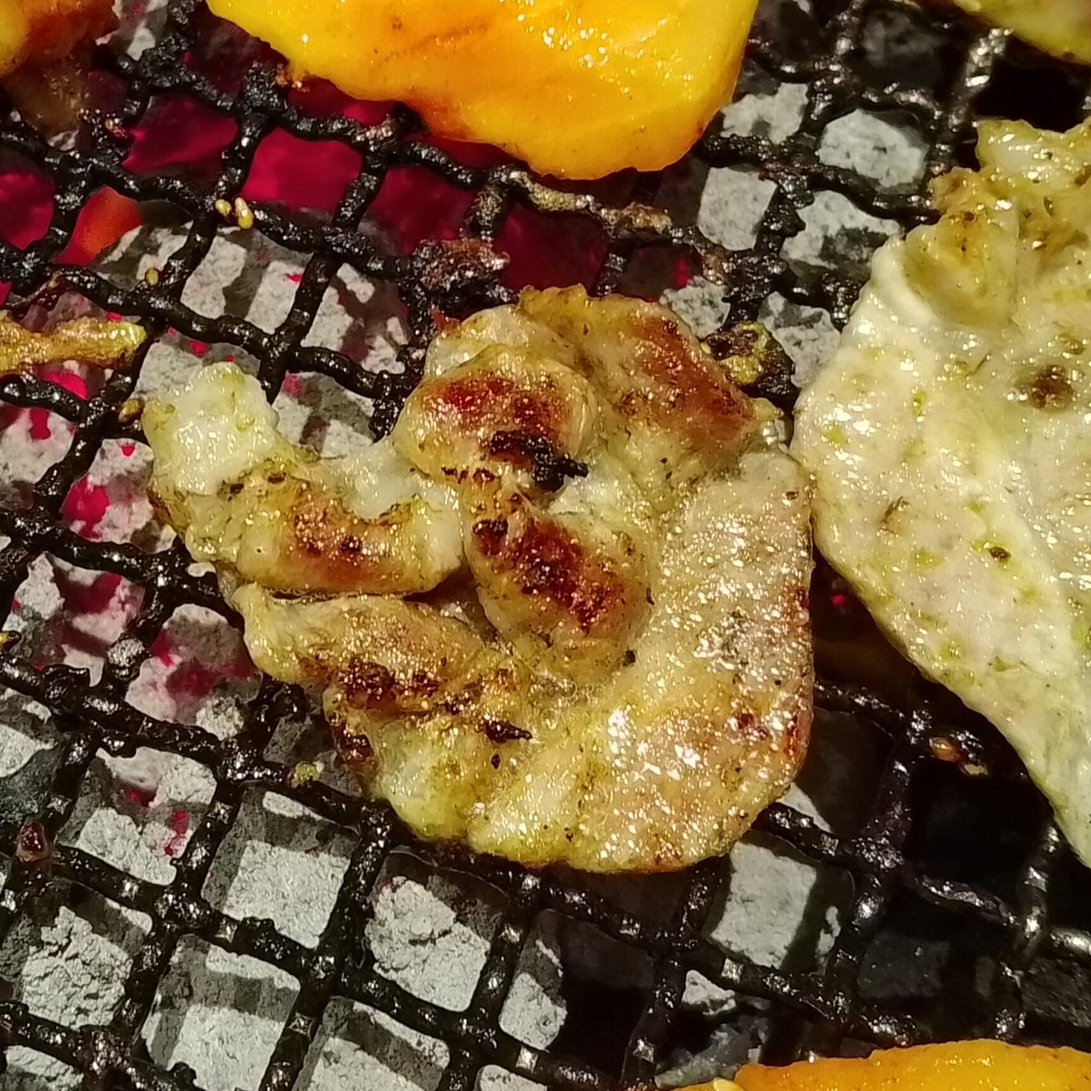Overcooked: (143, 286, 812, 873)
Well-Cooked: (792, 113, 1090, 875)
